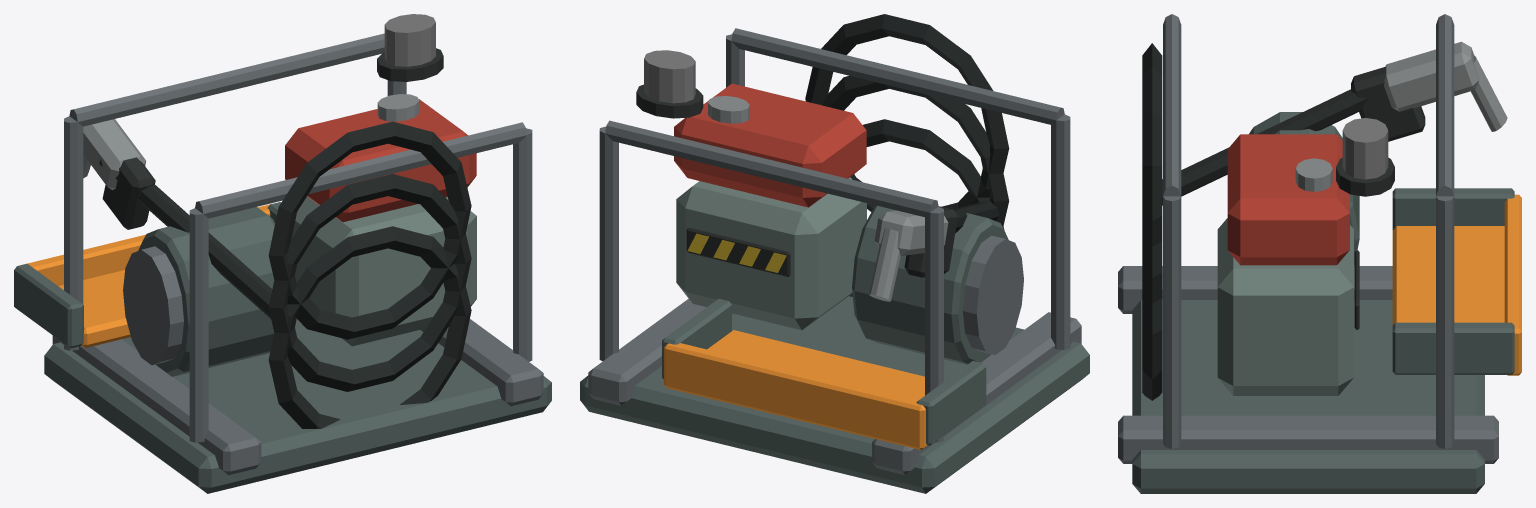
The model's file is fuel_pump.glb.
The picture shows the model from 3 angles, left to right: view 1: azimuth 30°, elevation 25°; view 2: azimuth 150°, elevation 25°; view 3: azimuth 270°, elevation 25°; orthographic projection. The views are drawn at different scales.
Visible parts, largest first — view 1: fuel_pump, Lamp; view 2: fuel_pump, Lamp; view 3: fuel_pump, Lamp.
Part boxes in pixels (<box>): fuel_pump: <box>14,33,551,493</box>; Lamp: <box>384,14,435,66</box>; fuel_pump: <box>580,14,1089,493</box>; Lamp: <box>644,50,695,103</box>; fuel_pump: <box>1118,14,1521,493</box>; Lamp: <box>1342,118,1388,179</box>.
Size of the model in its own units: 1.25 by 1.05 by 1.09.
